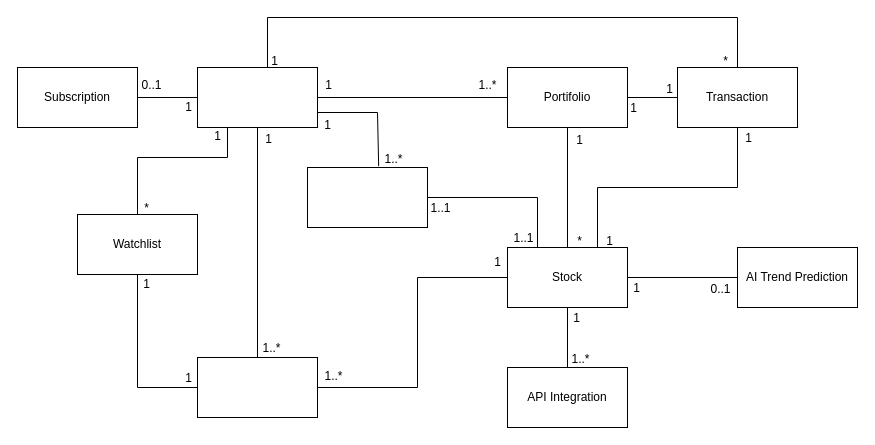
Image size: 875x445. Some labels were removed from this diagram. Each missing label, with the centre of its shape:
"Notifications" goes at (x=257, y=387).
"Stock Comparison" goes at (x=367, y=197).
"User" goes at (x=257, y=97).
